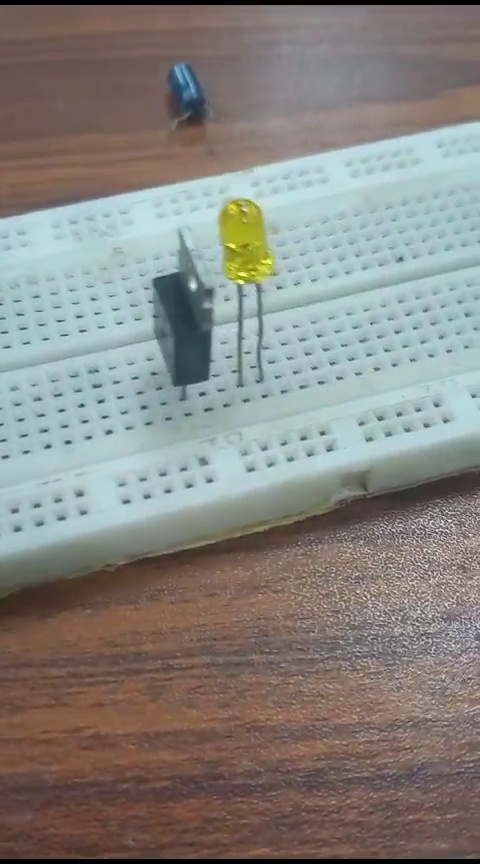LED: (216, 191, 279, 384)
voltage regulator: (143, 227, 215, 400)
